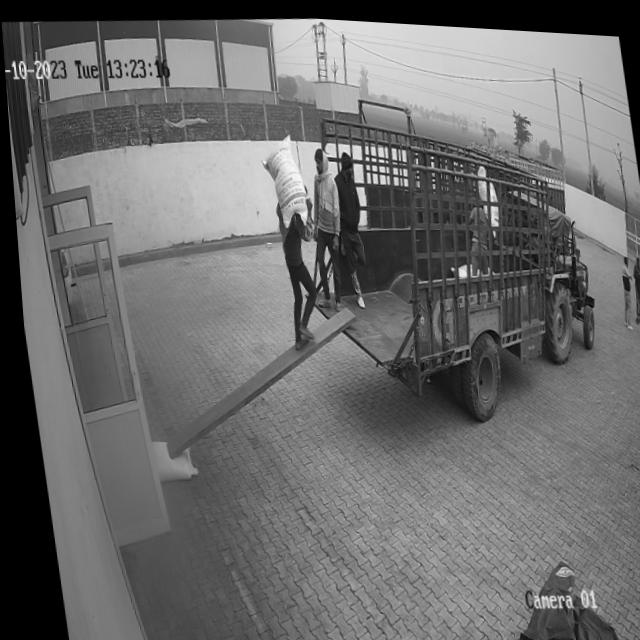sack: (255, 127, 308, 225), (144, 437, 191, 481)
